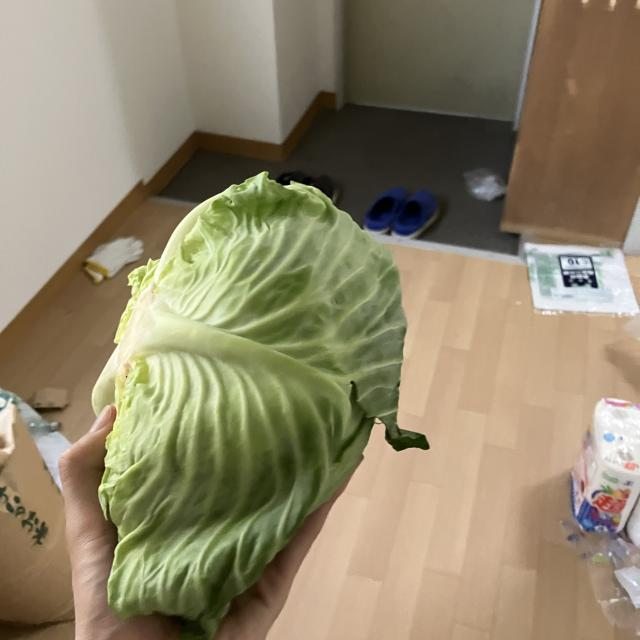cabbage: (89, 168, 436, 638)
